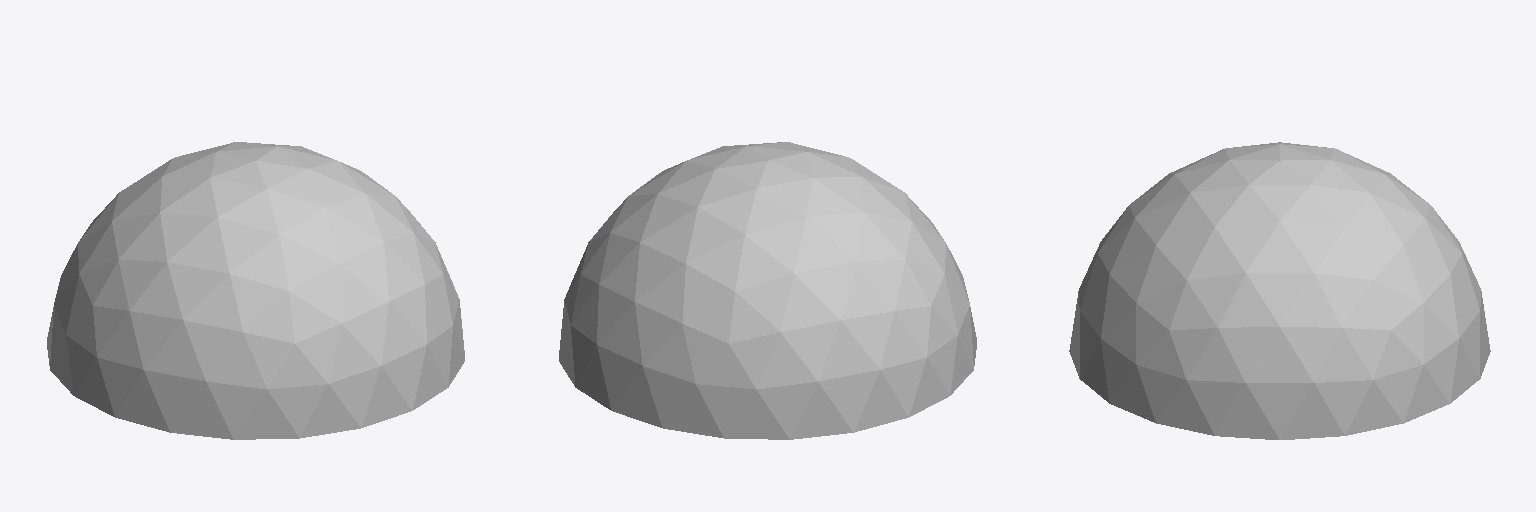
Rendered from upperHemisphere.obj.
The picture shows the model from 3 angles: view 1: azimuth 30°, elevation 25°; view 2: azimuth 150°, elevation 25°; view 3: azimuth 270°, elevation 25°; orthographic projection.
Parts seen in each view (by area): view 1: Icosphere.002; view 2: Icosphere.002; view 3: Icosphere.002.
Part boxes in pixels (x1,y1,x2,y2): Icosphere.002: (47, 142, 464, 439); Icosphere.002: (559, 142, 976, 439); Icosphere.002: (1069, 142, 1490, 439).
Bounding box in the file's own units: 2 × 1 × 2.